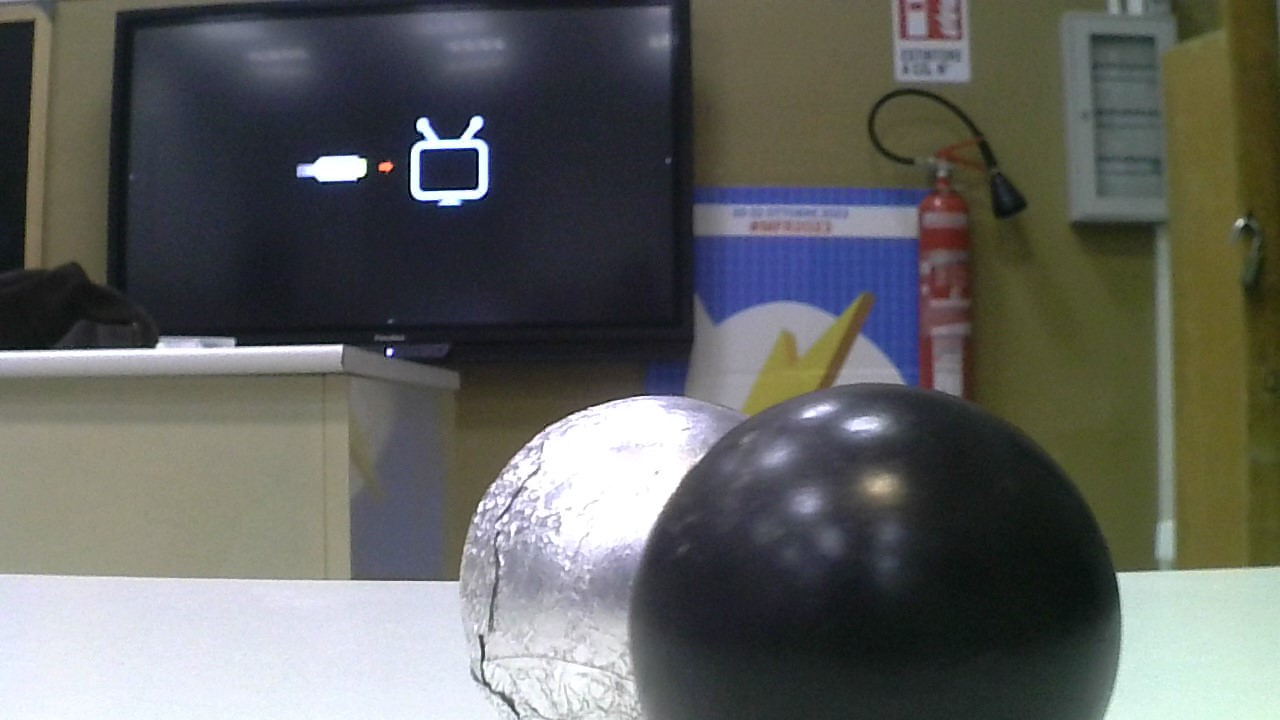black_ball: (626, 379, 1126, 720)
silver_ball: (463, 364, 747, 720)
